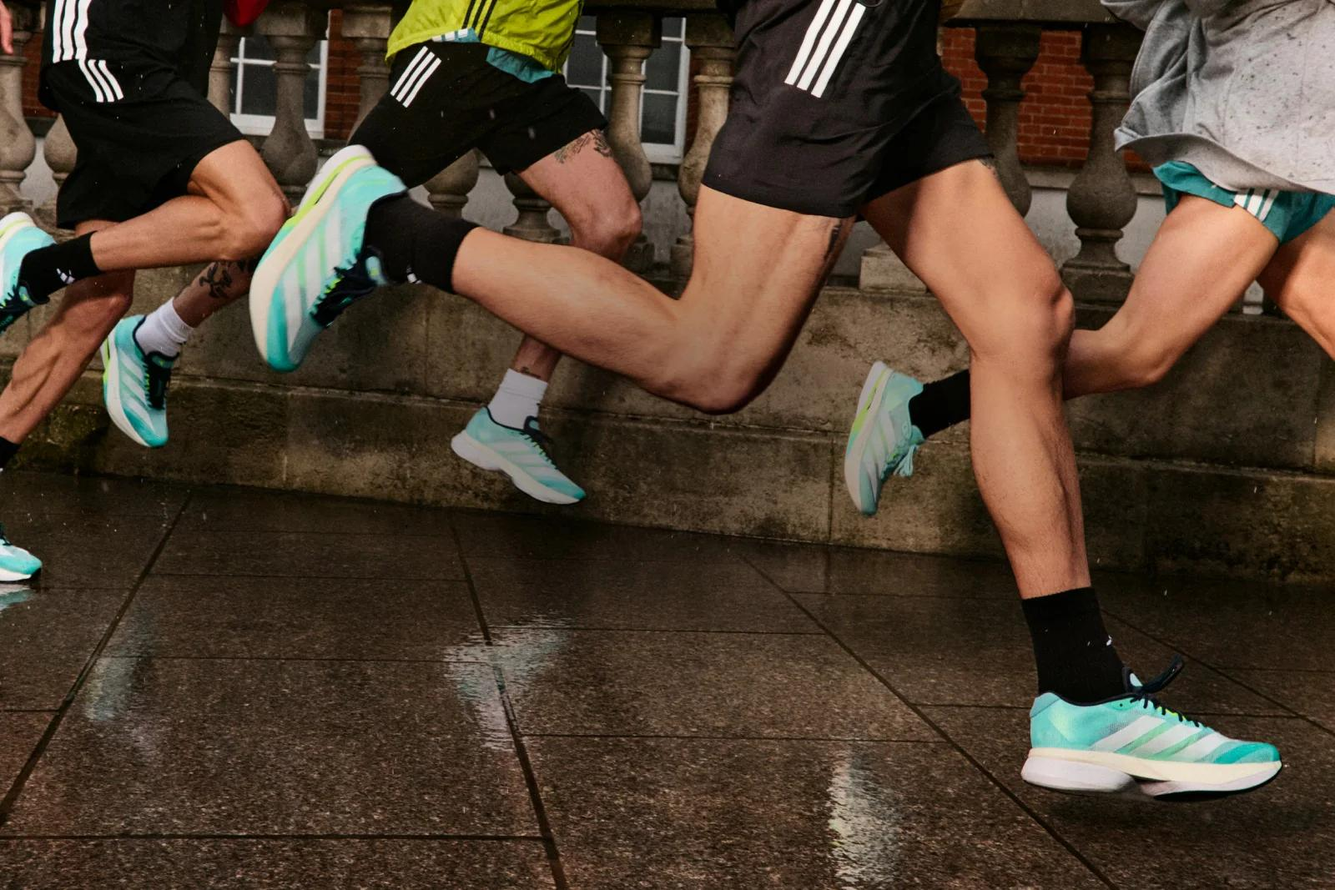adidas logo: (266, 182, 365, 359), (1081, 702, 1247, 776), (478, 424, 574, 499), (107, 335, 170, 445), (853, 377, 909, 492)
